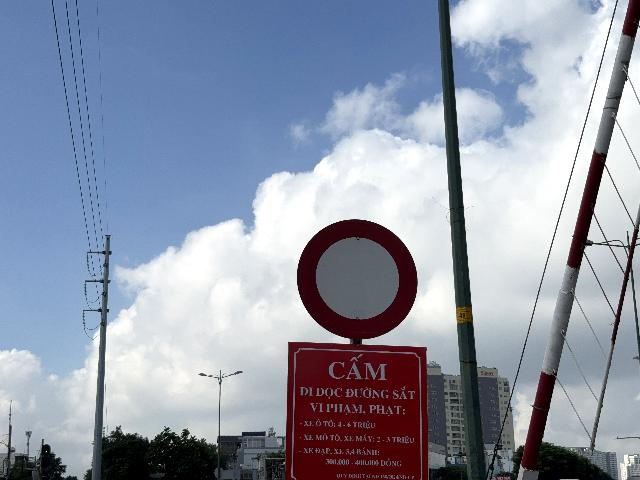duong-cam: (297, 219, 418, 339)
